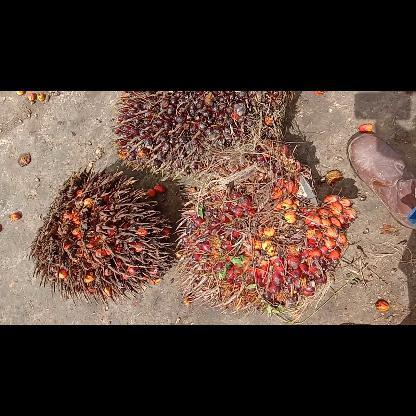Kurang masak: (116, 90, 292, 180)
TBS masak: (178, 140, 354, 308)
Terlalu masak: (29, 171, 171, 299)
